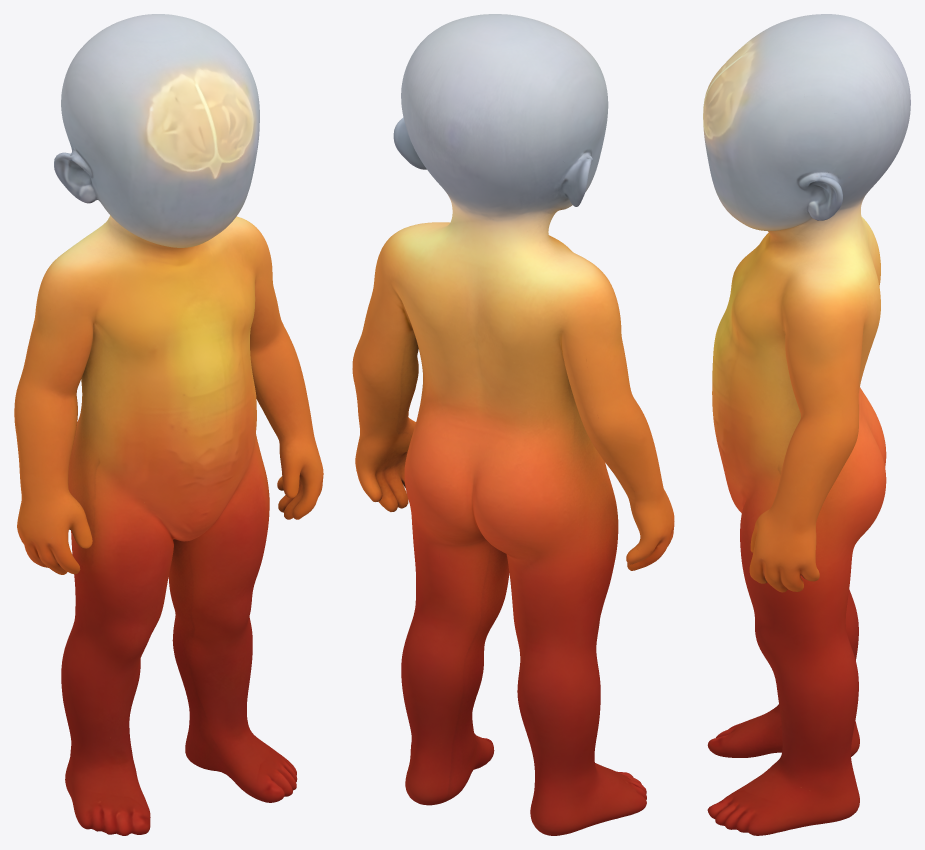
The model's file is child-progress.glb.
The picture shows the model from 3 angles, left to right: view 1: azimuth 30°, elevation 25°; view 2: azimuth 150°, elevation 25°; view 3: azimuth 270°, elevation 25°; orthographic projection. The views are drawn at different scales.
Parts seen in each view (by area): view 1: model; view 2: model; view 3: model.
Part boxes in pixels (x1,y1,x2,y2): model: [14, 14, 323, 835]; model: [352, 14, 674, 835]; model: [703, 14, 910, 835].
Bounding box in the file's own units: 0.7787 × 1.9 × 0.4702.
Materials: 1 (1 with a texture image).
